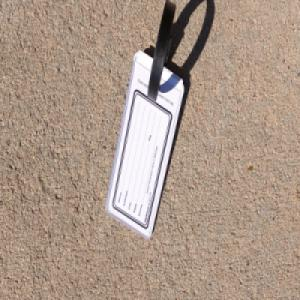LuggageTag: (105, 0, 185, 240)
